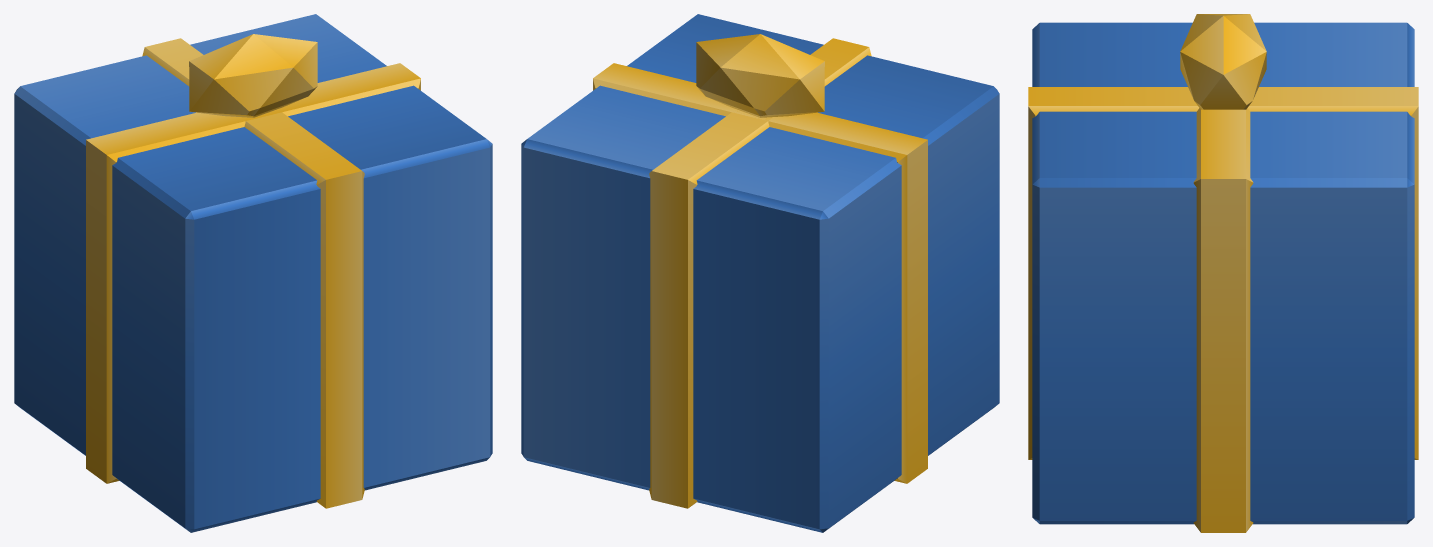
File: dt_mini_gift.fbx
3 views of the same model, side by side, from view 1: azimuth 30°, elevation 25°; view 2: azimuth 150°, elevation 25°; view 3: azimuth 270°, elevation 25° (orthographic). The views are drawn at different scales.
Visible parts, largest first — view 1: dt_mini_gift; view 2: dt_mini_gift; view 3: dt_mini_gift.
Boxes of the visible parts, left/top/right/bottom form: dt_mini_gift: left=14, top=14, right=492, bottom=532; dt_mini_gift: left=521, top=14, right=999, bottom=532; dt_mini_gift: left=1028, top=14, right=1418, bottom=532.
Bounding box in the file's own units: 73.27 × 90 × 73.27.
